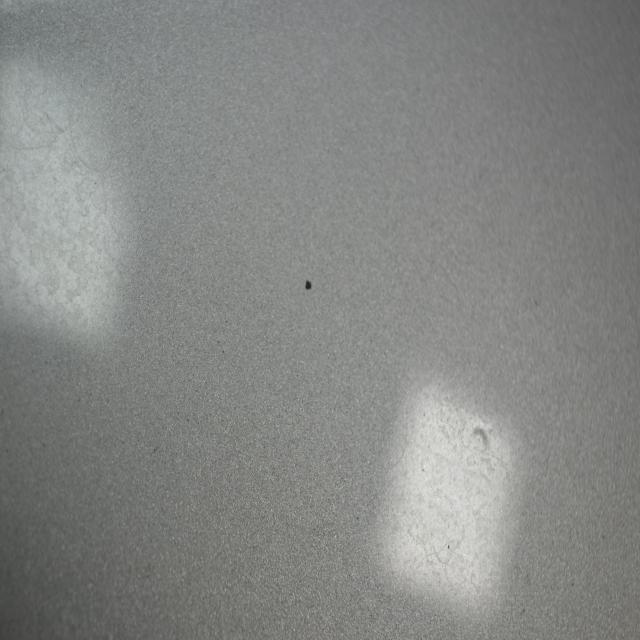dirt: (300, 276, 314, 292)
water marks: (2, 174, 112, 336), (426, 392, 507, 493), (408, 459, 478, 575), (7, 67, 82, 166), (60, 110, 127, 182), (376, 393, 424, 477)
